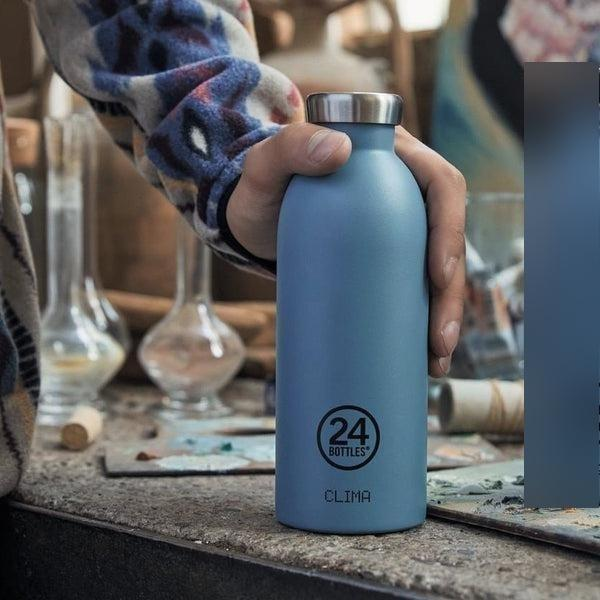gym bottle: (273, 89, 432, 537)
